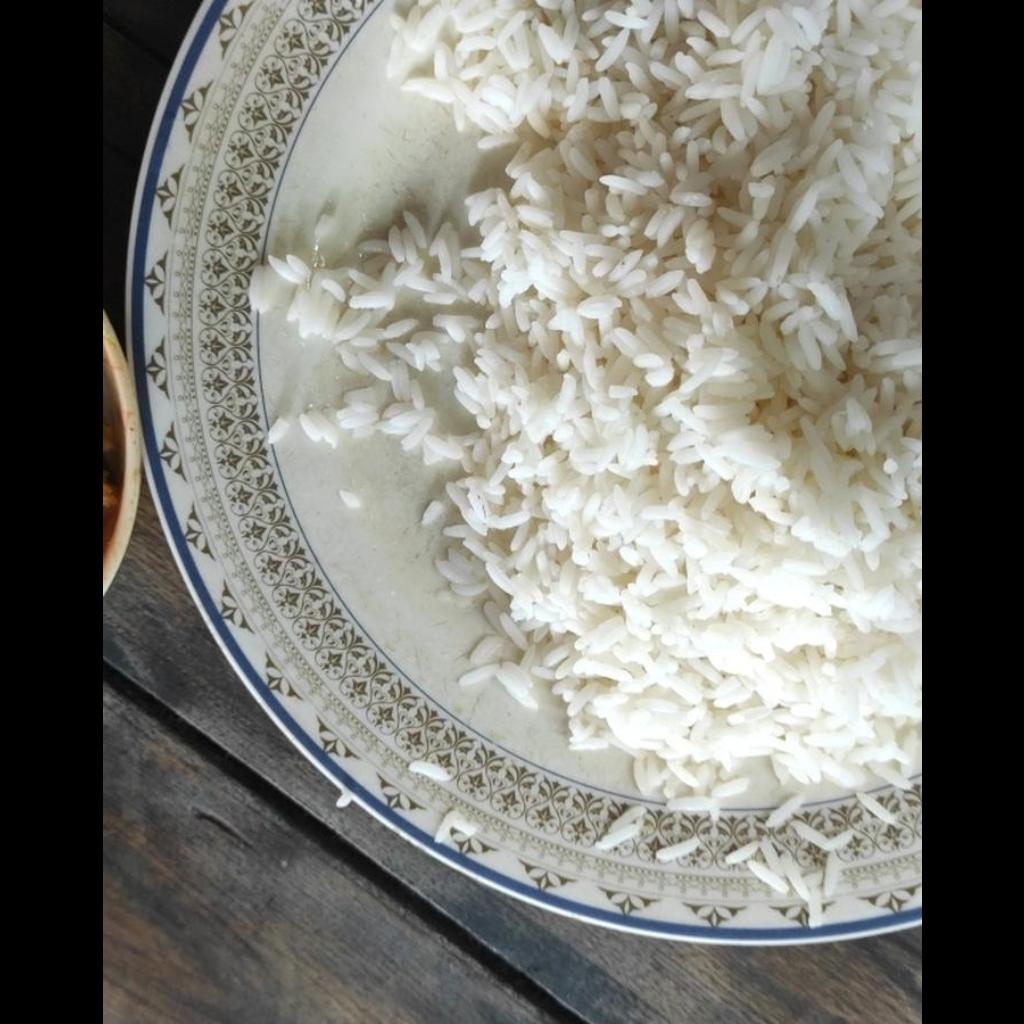rice: (247, 1, 920, 838)
